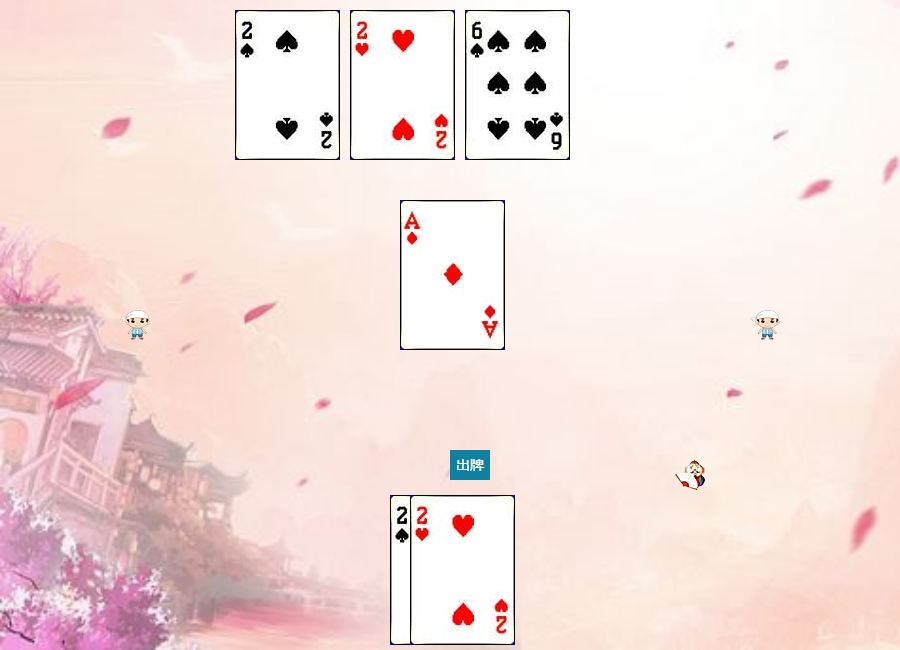14~1: (400, 200, 505, 350)
15~3: (350, 10, 455, 160), (410, 495, 515, 645)
15~4: (235, 10, 340, 160), (390, 495, 495, 645)
6~4: (465, 10, 570, 160)
